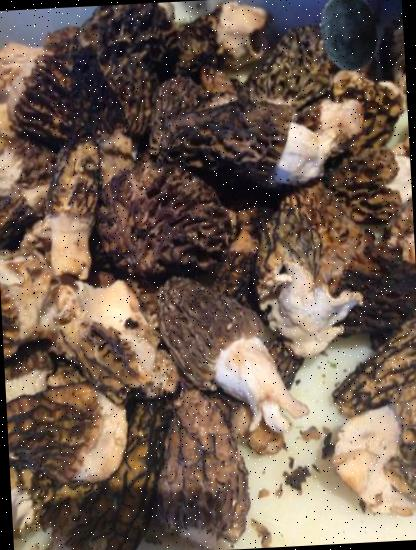Blueberry: (306, 0, 390, 74)
